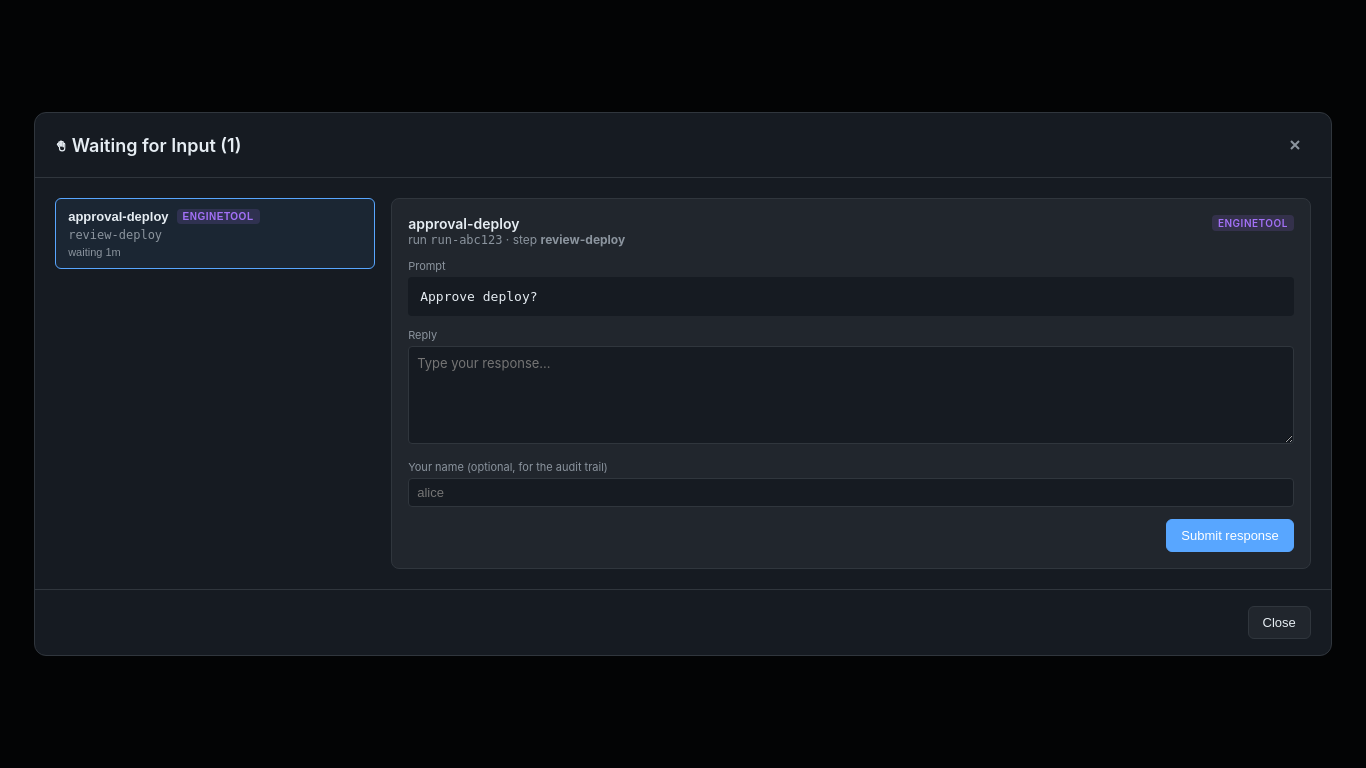
WaitingInputsModal › shows an inline validation error when neither choice nor reply is set
Click the button "Submit response": (1230, 536) [1166,519,1294,552]
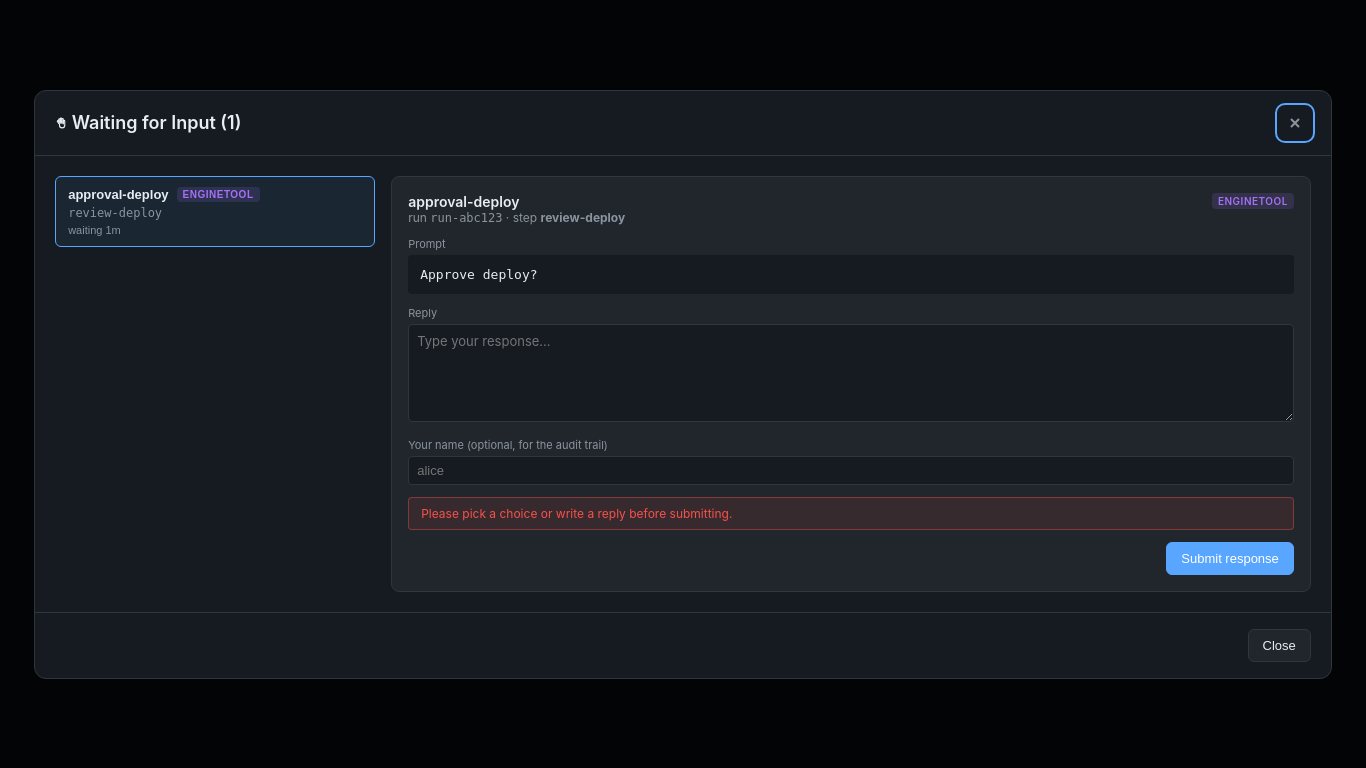
Expected: the message shows "pick a choice or write a reply", [421,506,732,520]
